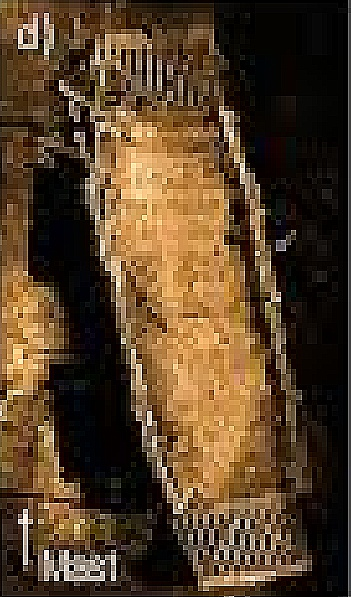ship: (55, 26, 312, 591)
